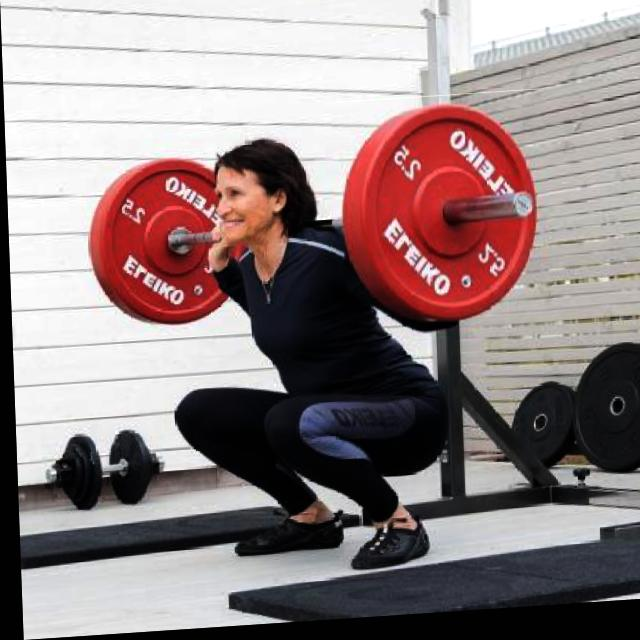barbell: (330, 97, 551, 345)
